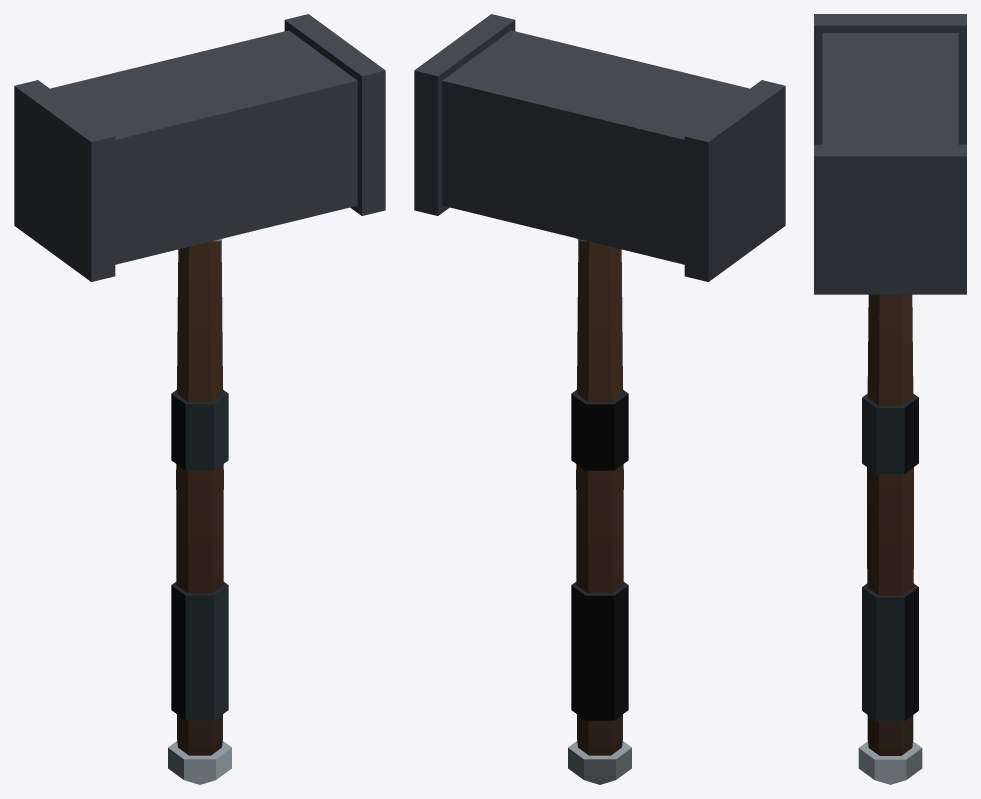
Rendered from barb_maul_1.gltf.
3 views of the same model, side by side, from view 1: azimuth 30°, elevation 25°; view 2: azimuth 150°, elevation 25°; view 3: azimuth 270°, elevation 25° (orthographic).
Parts seen in each view (by area): view 1: barb_maul_1; view 2: barb_maul_1; view 3: barb_maul_1.
Part boxes in pixels (x1=…): barb_maul_1: x1=14, y1=14, x2=385, y2=784; barb_maul_1: x1=414, y1=14, x2=785, y2=784; barb_maul_1: x1=814, y1=14, x2=966, y2=784.
Bounding box in the file's own units: 0.74 × 1.7 × 0.336.
1 material, 1 textured.
